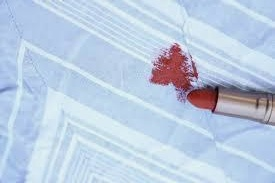lipstick: (151, 42, 201, 107)
